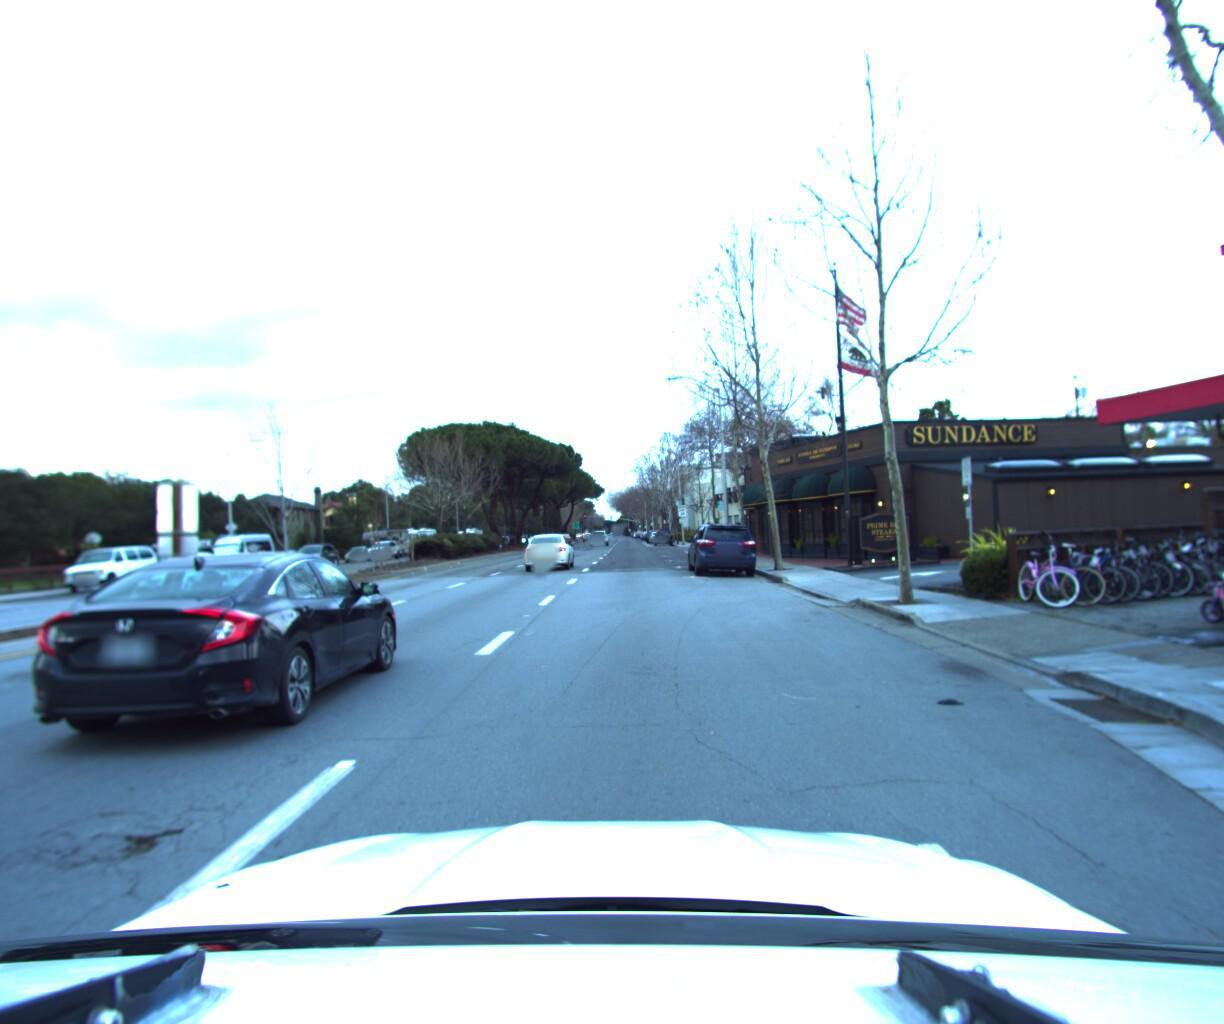bicycle: (996, 521, 1094, 607), (1084, 524, 1190, 595), (1113, 519, 1221, 589), (1055, 529, 1160, 601), (1026, 531, 1125, 603), (1144, 517, 1224, 587), (1175, 515, 1224, 584), (1195, 546, 1224, 620)
car: (4, 541, 411, 766), (125, 550, 240, 603), (57, 543, 165, 592), (688, 513, 758, 575), (136, 536, 225, 584), (199, 528, 282, 578), (521, 529, 577, 570), (280, 541, 343, 571), (261, 546, 310, 570), (364, 541, 402, 563), (344, 543, 376, 561), (653, 522, 673, 542), (587, 528, 608, 543)
